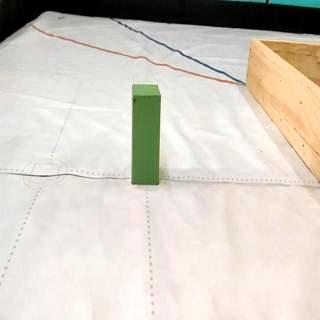greenbox: (130, 82, 163, 186)
